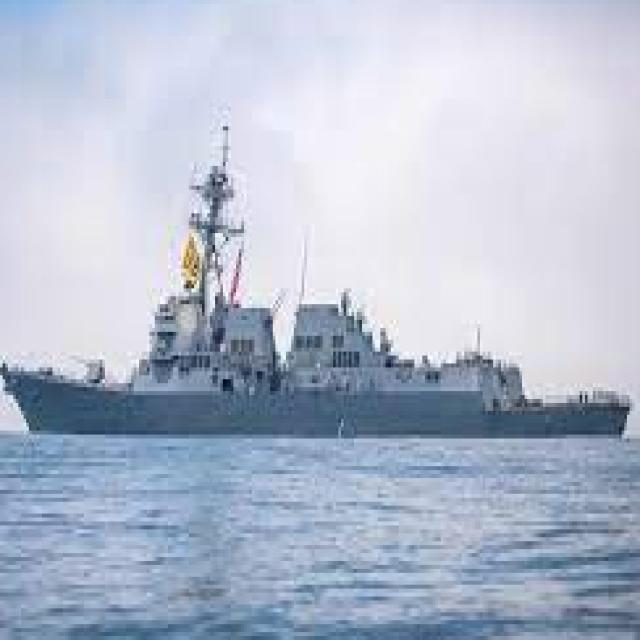navalvessels: (1, 117, 631, 440)
